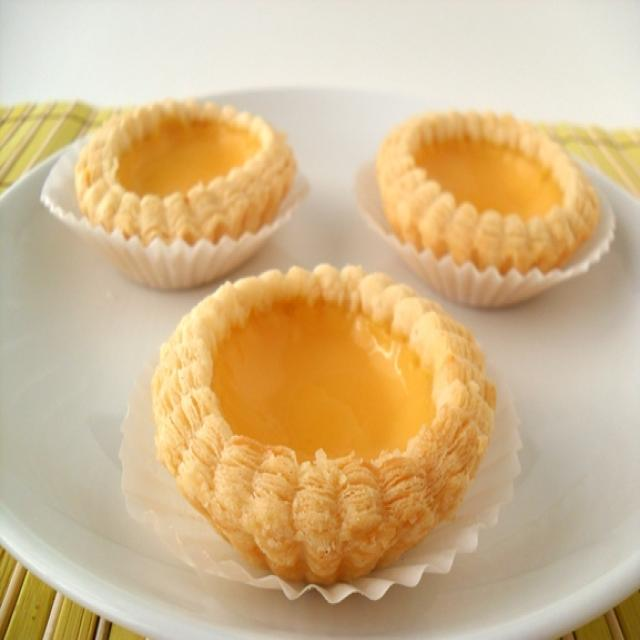炸货点心: (1, 77, 636, 624)
蛋糕甜品: (1, 77, 636, 624)
